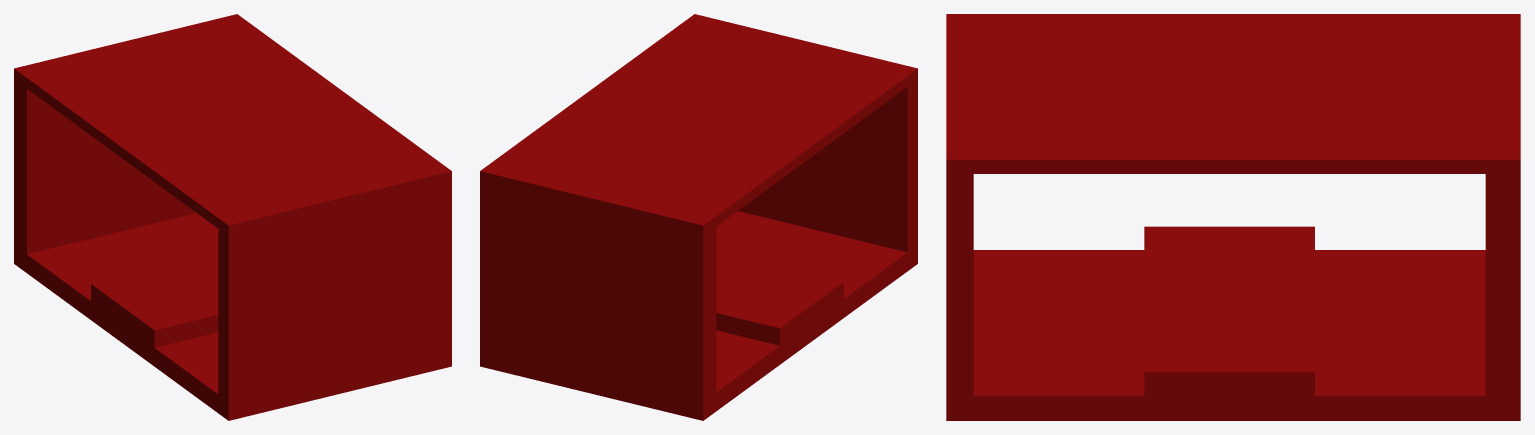
Rendered from BaseLevelSandbox.FBX.
3 renders of one model, left to right at view 1: azimuth 30°, elevation 25°; view 2: azimuth 150°, elevation 25°; view 3: azimuth 270°, elevation 25°, orthographic. The views are drawn at different scales.
Parts seen in each view (by area): view 1: Box001; view 2: Box001; view 3: Box001.
Boxes of the visible parts, x1,y1,x2,y2 form: Box001: (14,14,451,420); Box001: (480,14,917,420); Box001: (946,14,1520,420).
Size of the model in its own units: 435 by 364 by 725.
